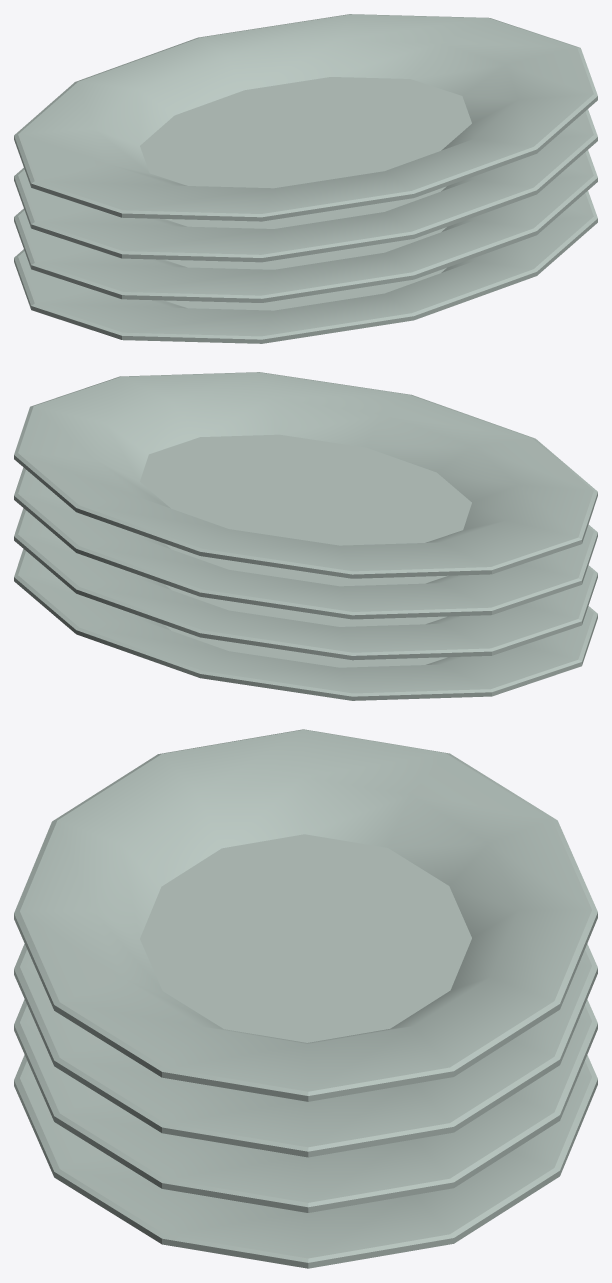
Rendered from Plates.fbx.
3 renders of one model, top to bottom at view 1: azimuth 30°, elevation 25°; view 2: azimuth 150°, elevation 25°; view 3: azimuth 270°, elevation 25°, orthographic. The views are drawn at different scales.
Parts seen in each view (by area): view 1: SilverwareShelfFiller_(3)-detach.002; view 2: SilverwareShelfFiller_(3)-detach.002; view 3: SilverwareShelfFiller_(3)-detach.002.
Part boxes in pixels (left/top/right/bottom): SilverwareShelfFiller_(3)-detach.002: left=14, top=14, right=597, bottom=343; SilverwareShelfFiller_(3)-detach.002: left=14, top=372, right=597, bottom=700; SilverwareShelfFiller_(3)-detach.002: left=14, top=729, right=597, bottom=1268.
Size of the model in its own units: 354 by 91.01 by 238.
